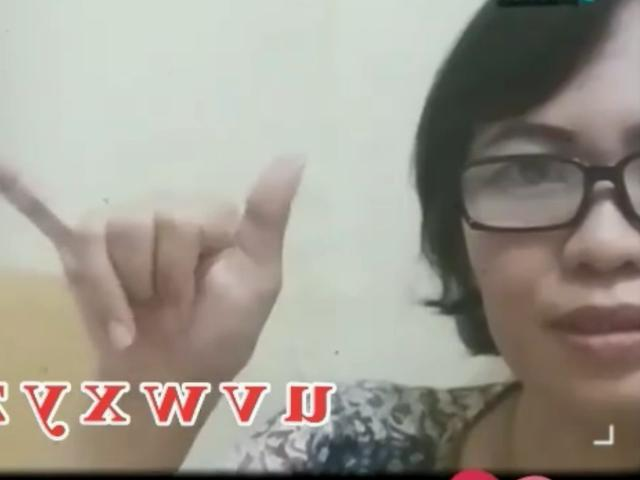Y: (0, 142, 308, 380)
